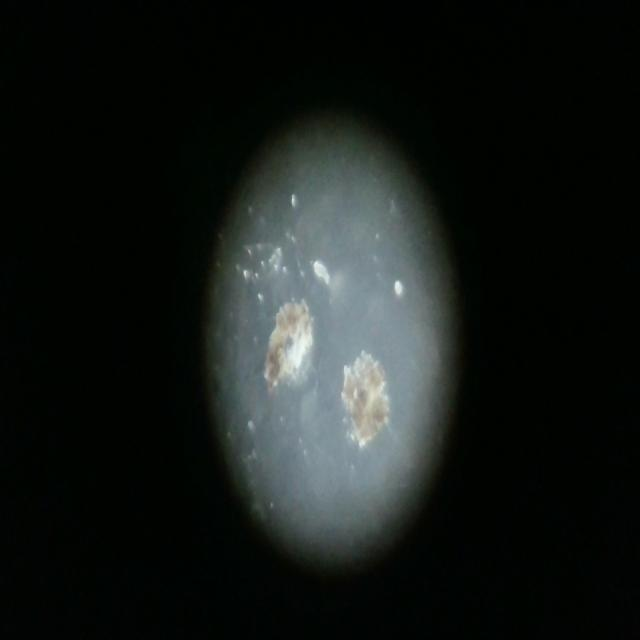alexandrium: (261, 285, 320, 412), (336, 338, 388, 448)
